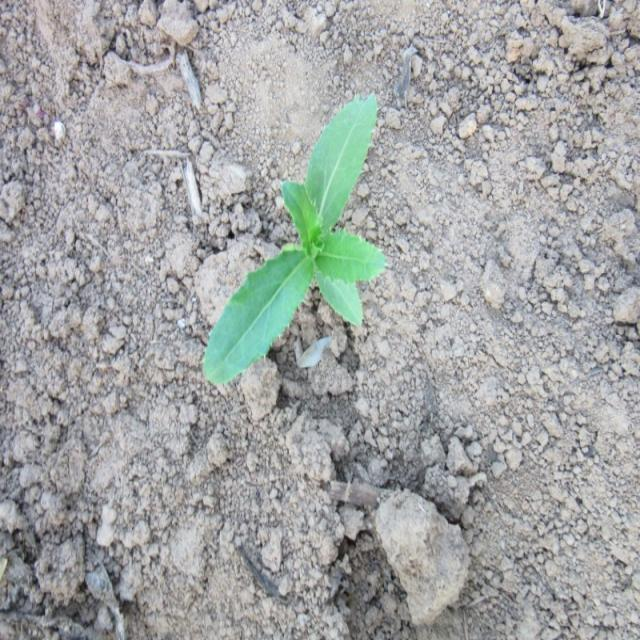cs: (202, 90, 393, 392)
